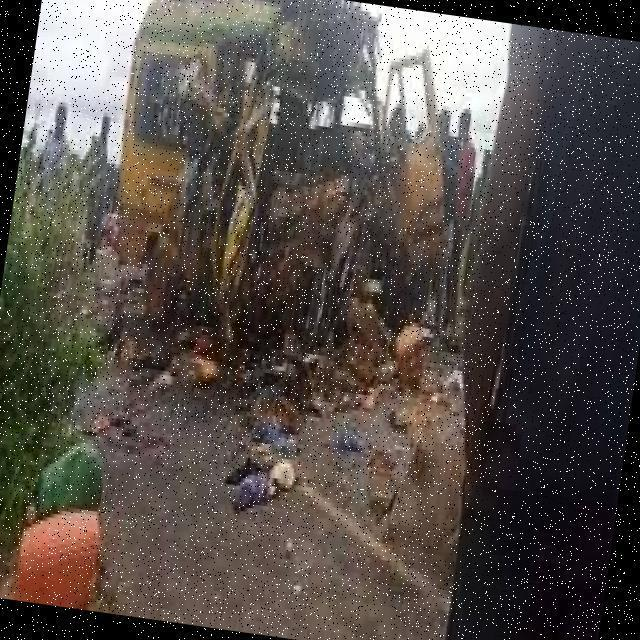accident: (74, 0, 461, 425)
